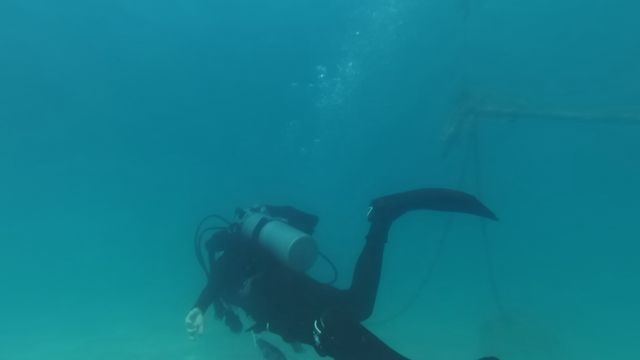Diver: (164, 176, 518, 359)
Hand: (173, 286, 222, 350)
